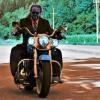motorcycles: (19, 32, 61, 98)
